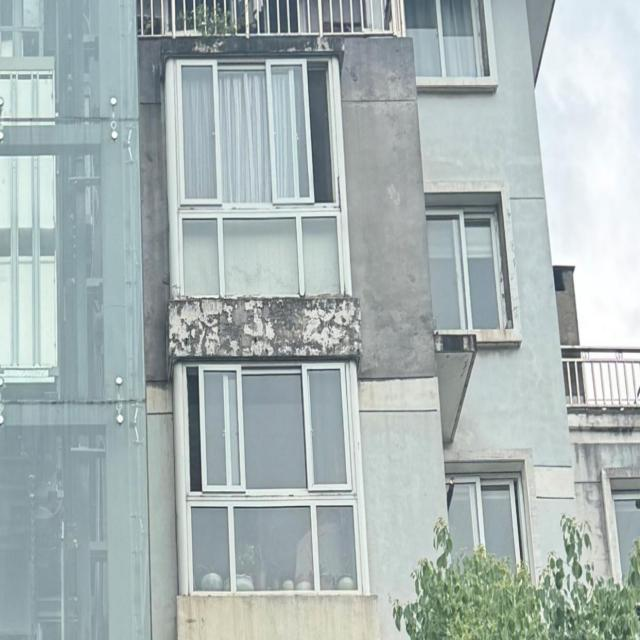spalling: (164, 298, 360, 380)
